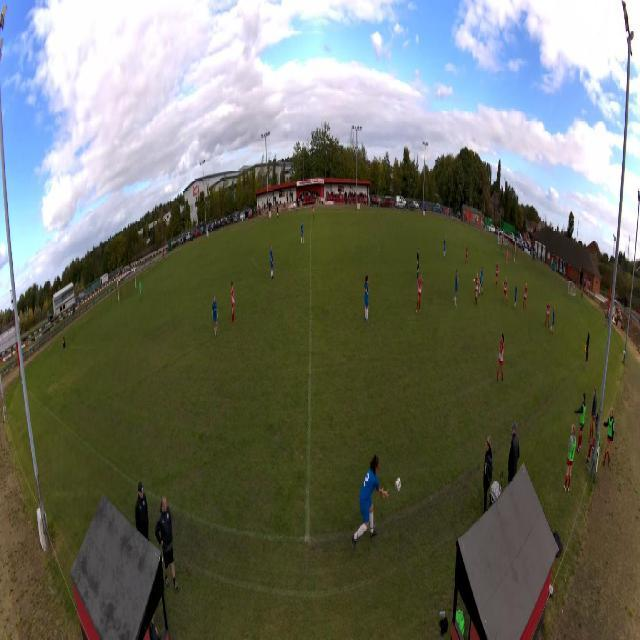ball: (395, 477, 401, 493)
player: (496, 333, 505, 384), (416, 271, 424, 315), (212, 294, 219, 340), (472, 272, 481, 307), (364, 274, 370, 324), (230, 281, 236, 325), (501, 276, 509, 307), (453, 269, 459, 308), (550, 305, 556, 336), (270, 243, 275, 280), (522, 282, 528, 311), (479, 264, 484, 298), (545, 299, 550, 329), (514, 281, 519, 310), (416, 247, 420, 282), (300, 221, 305, 246), (495, 261, 499, 289), (464, 244, 468, 268), (443, 235, 446, 259), (139, 279, 142, 299), (506, 247, 509, 264), (312, 203, 315, 219)
